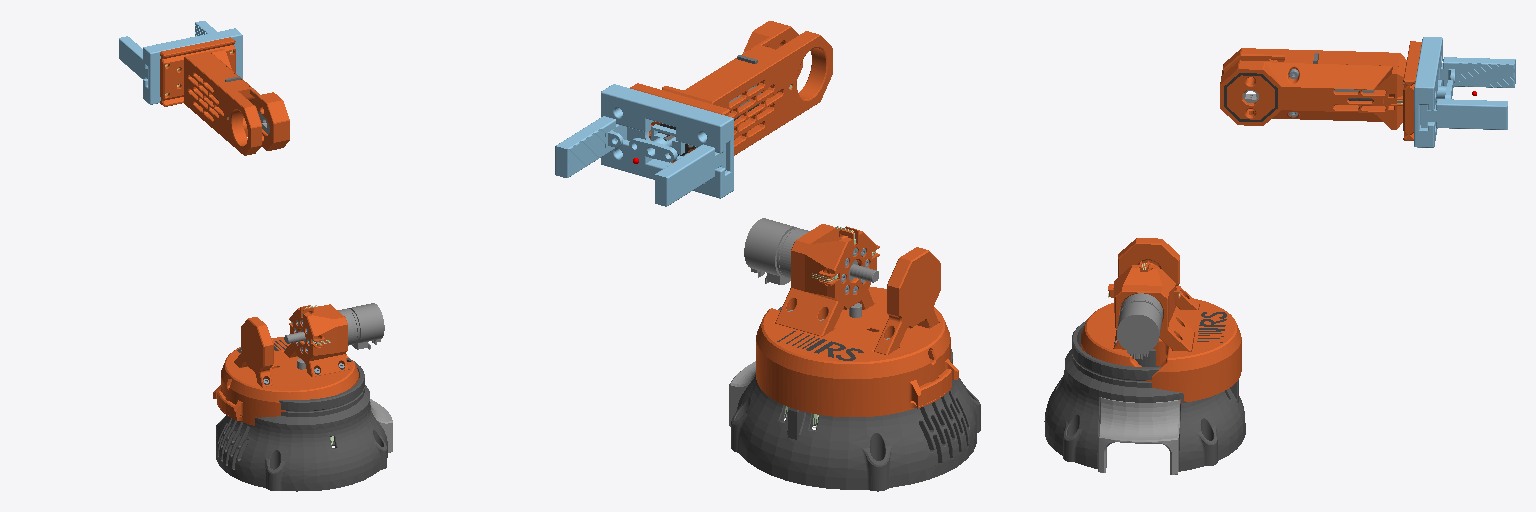
The robot description file, URDF, robot "rascl":
<?xml version="1.0"?>
<robot xmlns:xacro="http://www.ros.org/wiki/xacro" name="rascl">
	<link name="world" />

	<joint name="base_link_joint" type="fixed">
		<parent link="world" />
		<child link="base_link" />
		<origin xyz="0 0 0" rpy="0 0 1.5" />
		<axis xyz="0 0 1" />
    <!--limit lower="-3.1415926" upper="0.0" effort="100" velocity="100" /-->
	</joint>

	<link name="base_link">
		<visual>
			<origin xyz="0 0 0" rpy="0 0 0" />
			<geometry>
				<mesh filename="package://rascl_description/meshes/base_link.dae" />
			</geometry>
		</visual>
		<collision>
			<origin xyz="0 0 0" rpy="0 0 0" />
			<geometry>
				<mesh filename="package://rascl_description/meshes/base_link.stl" />
			</geometry>
		</collision>
	</link>

	<joint name="shoulder_joint" type="revolute">
		<parent link="base_link" />
		<child link="shoulder" />
		<origin xyz="0 0 0.057441" rpy="0 0 0" />
		<axis xyz="0 0 -1" />
		<limit lower="-1.9" upper="3.1415926" effort="100" velocity="100" />
	</joint>

	<link name="shoulder">
		<visual>
			<origin xyz="0.0115 0.0059 -0.009" rpy="0 0 0" />
			<geometry>
				<mesh filename="package://rascl_description/meshes/shoulder.dae" />
			</geometry>
		</visual>
    <!-- <collision>
			<origin xyz="0 0 0" rpy="0 0 0" />
			<geometry>
				<mesh filename="package://rascl_description/meshes/shoulder.stl" />
			</geometry>
		</collision>
      -->
	</link>

	<joint name="upperarm_joint" type="revolute">
		<parent link="shoulder" />
		<child link="upperarm" />
		<origin xyz="0 0 0.057441" rpy="0 -1.570796327 0" />
		<axis xyz="0 -1 0" />
		<limit lower="-1.4" upper="1.4" effort="100" velocity="100" />
	</joint>

	<link name="upperarm">
		<visual>
			<origin xyz="0 0 0" rpy="-1.570796327 0 0" />
			<geometry>
				<mesh filename="package://rascl_description/meshes/upperarm.dae" />
			</geometry>
		</visual>
		<collision>
			<origin xyz="0 0 0" rpy="-1.570796327 0 0" />
			<geometry>
				<mesh filename="package://rascl_description/meshes/upperarm.stl" />
			</geometry>
		</collision>
	</link>

	<joint name="lowerarm_joint" type="revolute">
		<parent link="upperarm" />
		<child link="lowerarm" />
		<origin xyz="0.17 0.0215 -0.08" rpy="-3.141592653 1.570796327 0" />
		<axis xyz="0 -1 0" />
    <limit lower="-1.4" upper="1.4" effort="100" velocity="100" />
	</joint>

	<link name="lowerarm">
		<visual>
			<origin xyz="0 0 0" rpy="-1.570796327 0 0" />
			<geometry>
				<mesh filename="package://rascl_description/meshes/lowerarm.dae" />
			</geometry>
		</visual>
		<collision>
			<origin xyz="0 0 0" rpy="-1.570796327 0 0" />
			<geometry>
				<mesh filename="package://rascl_description/meshes/lowerarm.stl" />
			</geometry>
		</collision>
	</link>


	<!-- <joint name="gripper_joint" type="revolute">
		<parent link="lowerarm" />
		<child link="gripper" />
		<origin xyz="0.12 0.019 0" rpy="3.141592653 0 0" />
		<axis xyz="1 0 0" />
		<limit lower="-1.5" upper="0.0" effort="100" velocity="100" />
	</joint>


  <link name="gripper">
      <visual>
          <origin xyz="0.014 0 0" rpy="-1.570796327 0 -1.570796327" />
          <geometry>
              <mesh filename="package://rascl_description/meshes/tool_gripper.dae" />
          </geometry>
      </visual>
      <collision>
          <origin xyz="0.014 0 0" rpy="-1.570796327 0 -1.570796327" />
          <geometry>
              <mesh filename="package://rascl_description/meshes/tool_gripper.stl" />
          </geometry>
      </collision>
  </link> -->

  

	<joint name="gripper_joint" type="revolute">
		<parent link="lowerarm" />
		<child link="gripper_rotary" />
		<origin xyz="0.135 0.019 0" rpy="3.141592653 0 0" />
		<axis xyz="-1 0 0" />
		<limit lower="-1.1519" upper="1.3" effort="100" velocity="100" />
	</joint>

	<joint name="gripper_base_joint" type="fixed">
		<parent link="lowerarm" />
		<child link="gripper_base" />
		<origin xyz="0.116 0.019 0" rpy="1.570796327 0 0" />
		<axis xyz="1 0 0" />
	</joint>


	<link name="gripper_rotary">
		<visual>
			<origin xyz="0.014 0 0" rpy="-1.570796327 3.141592653 -1.570796327" />
			<geometry>
				<mesh filename="package://rascl_description/meshes/middle_rotary.dae" />
			</geometry>
		</visual>
		<collision>
			<origin xyz="0.014 0 0" rpy="-1.570796327 3.141592653 -1.570796327" />
			<geometry>
				<mesh filename="package://rascl_description/meshes/middle_rotary.stl" />
			</geometry>
		</collision>
	</link>

	<link name="gripper_base">
		<visual>
			<origin xyz="0.014 0 0" rpy="-1.570796327 0 -1.570796327" />
			<geometry>
				<mesh filename="package://rascl_description/meshes/gripper_base.dae" />
			</geometry>
		</visual>
		<!-- <collision>
			<origin xyz="0.014 0 0" rpy="-1.570796327 0 -1.570796327" />
			<geometry>
				<mesh filename="package://rascl_description/meshes/gripper_base_col.stl" />
			</geometry>
		</collision> -->
	</link>
	

	<joint name="yaw_right" type="prismatic">
		<mimic joint="gripper_joint" multiplier="0.01" offset="0" />
		<parent link="gripper_base" />
		<child link="gripper_yaw_right" />
		<axis xyz="0 0 1" />
		<origin xyz="0 0 0" rpy="0.0 0.0 0.0" />
		<limit lower="-0.0025" upper="0.03" effort="100" velocity="100" />
	</joint>
	<joint name="yaw_left" type="prismatic">
		<mimic joint="gripper_joint" multiplier="0.01" offset="0" />
		<parent link="gripper_base" />
		<child link="gripper_yaw_left" />
		<axis xyz="0 0 1" />
		<origin xyz="0 0 0" rpy="3.141592653 0.0 0.0" />
		<limit lower="-0.0025" upper="0.03" effort="100" velocity="100" />
	</joint>
  
	<link name="gripper_yaw_left">
		<visual>
			<origin xyz="0.045 0 -0.037" rpy="-1.570796327 0 -1.570796327" />
			<geometry>
				<mesh filename="package://rascl_description/meshes/yaw.dae" />
			</geometry>
		</visual>
		<collision>
			<origin xyz="0.045 0 -0.037" rpy="-1.570796327 0 -1.570796327" />
			<geometry>
				<mesh filename="package://rascl_description/meshes/yaw.stl" />
			</geometry>
		</collision>
	</link>
	<link name="gripper_yaw_right">
		<visual>
			<origin xyz="0.045 0 -0.037" rpy="-1.570796327 0 -1.570796327" />
			<geometry>
				<mesh filename="package://rascl_description/meshes/yaw.dae" />
			</geometry>
		</visual>
		<collision>
			<origin xyz="0.045 0 -0.037" rpy="-1.570796327 0 -1.570796327" />
			<geometry>
				<mesh filename="package://rascl_description/meshes/yaw.stl" />
			</geometry>
		</collision>e
	</link>

	<joint name="tcp" type="fixed">
  		<parent link="gripper_base"/>
  		<child link="tcp_link"/>
  		<origin xyz="0.05 0.0 -0.00" rpy="0 0 0"/>
  	</joint>

  	<link name="tcp_link">
		<visual>
			<geometry>
			<sphere radius="0.002"/> 
			</geometry>
			<material name="red">
			<color rgba="1 0 0 1"/>
			</material>
		</visual>
	</link>
	

	<ros2_control name="rascl_hardware_interface" type="system">
		<hardware>
			<plugin>rascl_hardware_interface/RASCL_HI</plugin>
			<param name="use_fake_hardware">false</param>
			<!-- minimal simulation, input equals output -->
			<param name="adapter">enx00e04c1c1328</param>
			<!-- interface name of ethernet usb dongle, standard en0, can be obtained with terminal command 'ifconfig' -->
		</hardware>
		<joint name="shoulder_joint">
			<command_interface name="position">
				<!-- interface for position control -->
				<param name="min">-1.9</param>
				<param name="max">3.1415926</param>
				<param name="initial_value">0.0</param>
			</command_interface>
			<state_interface name="position" />
		</joint>
    <joint name="upperarm_joint">
      <command_interface name="position">
        <param name="min">-1.4</param>
        <param name="max">1.4</param>
        <param name="initial_value">0.0</param>
      </command_interface>
      <state_interface name="position" />
    </joint>
    <joint name="lowerarm_joint">
      <command_interface name="position">
        <param name="min">-1.4</param>
        <param name="max">1.4</param>
        <param name="initial_value">0.0</param>
      </command_interface>
      <state_interface name="position" />
    </joint>
    <!-- ToDo: implement mimic joints for gripper -->
    <joint name="gripper_joint">
      <command_interface name="position">
        <!-- <param name="min">-1.5</param>
        <param name="max">0.0</param> -->
		<param name="min">-1.5</param>
        <param name="max">0.0</param>
        <param name="initial_value">0.0</param>
      </command_interface>
      <state_interface name="position" />
    </joint>

	</ros2_control>
</robot>

--- What the picture shows (computed from the rendered views, not written in the file) ---
3 views of the same robot in one strip: view 1: azimuth 30°, elevation 25°; view 2: azimuth 150°, elevation 25°; view 3: azimuth 270°, elevation 25° (orthographic).
Robot: rascl — 10 links, 9 joints (4 revolute, 2 prismatic, 3 fixed); root link world; default pose: every joint at zero.
Links seen in each view (by area): view 1: base_link, shoulder, lowerarm, gripper_base, gripper_yaw_left; view 2: shoulder, base_link, lowerarm, gripper_base, gripper_yaw_right, gripper_yaw_left, gripper_rotary; view 3: base_link, shoulder, lowerarm, gripper_yaw_right, gripper_base, gripper_yaw_left.
Link boxes in pixels (bbox=[...]): base_link: bbox=[216, 358, 392, 491]; shoulder: bbox=[213, 303, 384, 425]; lowerarm: bbox=[160, 37, 289, 155]; gripper_base: bbox=[143, 28, 242, 104]; gripper_yaw_left: bbox=[119, 36, 147, 78]; shoulder: bbox=[744, 218, 958, 416]; base_link: bbox=[729, 303, 980, 491]; lowerarm: bbox=[630, 21, 832, 162]; gripper_base: bbox=[601, 84, 733, 198]; gripper_yaw_right: bbox=[555, 116, 626, 177]; gripper_yaw_left: bbox=[655, 144, 725, 206]; gripper_rotary: bbox=[629, 124, 684, 162]; base_link: bbox=[1044, 320, 1245, 474]; shoulder: bbox=[1081, 238, 1241, 402]; lowerarm: bbox=[1220, 41, 1421, 140]; gripper_yaw_right: bbox=[1421, 99, 1507, 129]; gripper_base: bbox=[1414, 37, 1442, 147]; gripper_yaw_left: bbox=[1438, 57, 1515, 87].
Bounding box of the posed robot: 0.155 × 0.3509 × 0.3099 m (x, y, z).
7 mesh visuals loaded from 7 distinct referenced files (6 Collada DAE); not drawn: 1 (reference not matched to a file when rendering).
